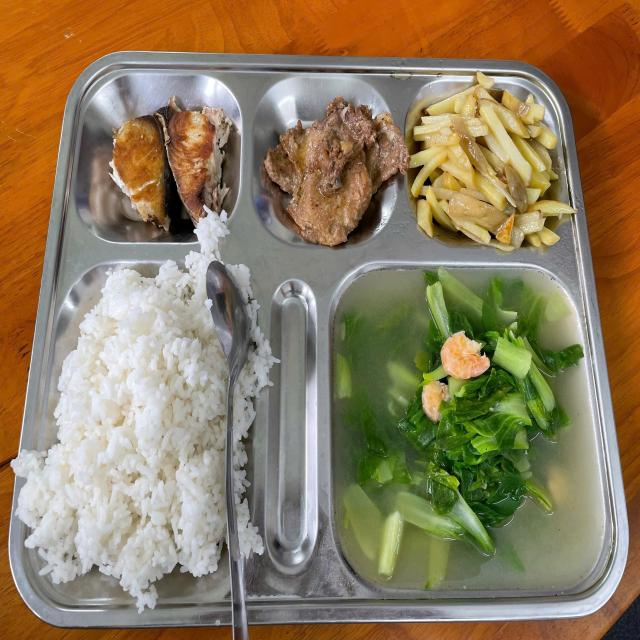cachien: (105, 106, 228, 215)
canhrau: (331, 266, 608, 598)
khoailuoc: (409, 78, 574, 254)
salad: (38, 273, 223, 580)
teprim: (261, 99, 406, 245)
